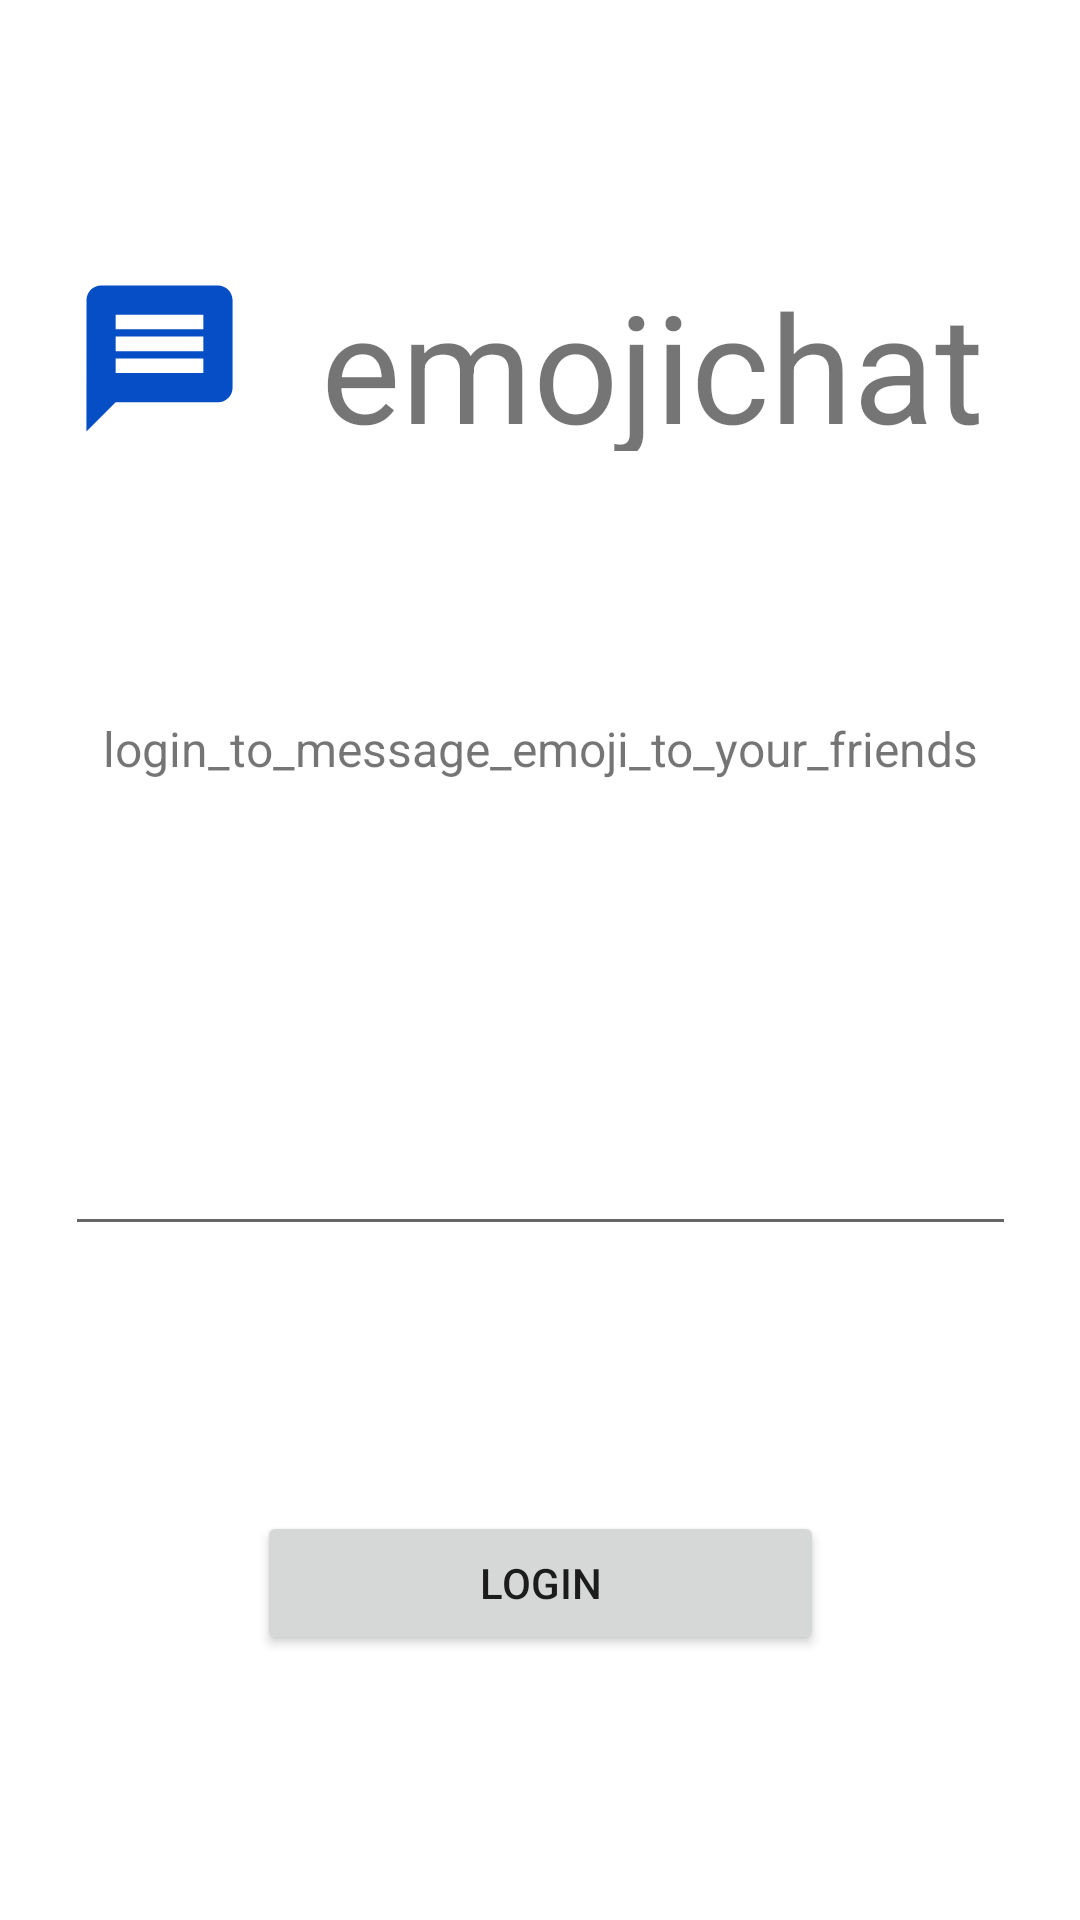

Icons on this 1080px x 1920px Android screen, each with the point to tap as (x=x, y=y):
message: (x=159, y=358)
